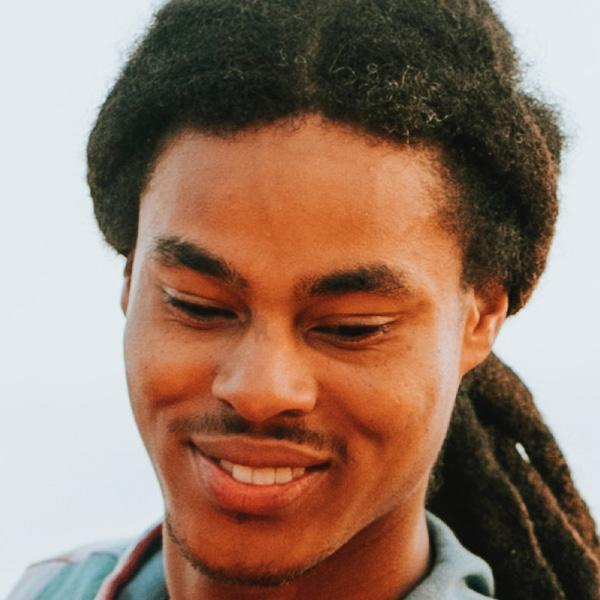Eyes: (149, 270, 245, 334), (300, 299, 399, 358)
